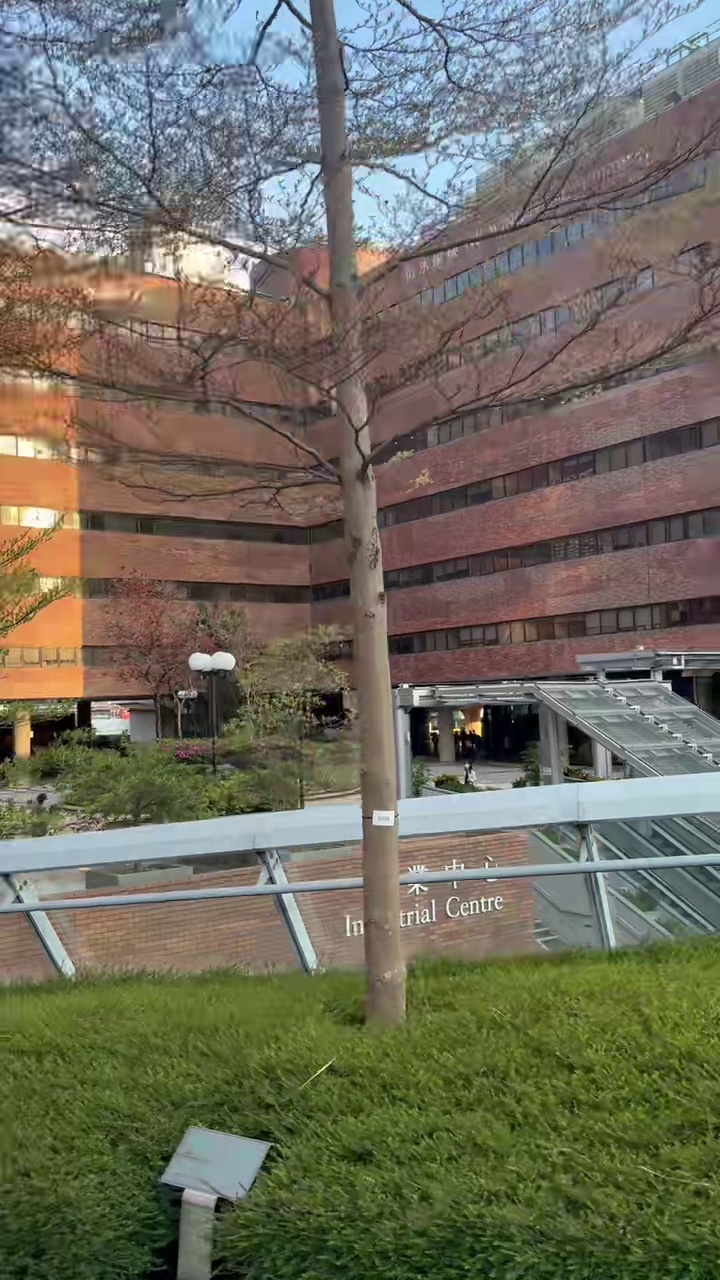Terminalia mantaly: (0, 0, 719, 1024)
